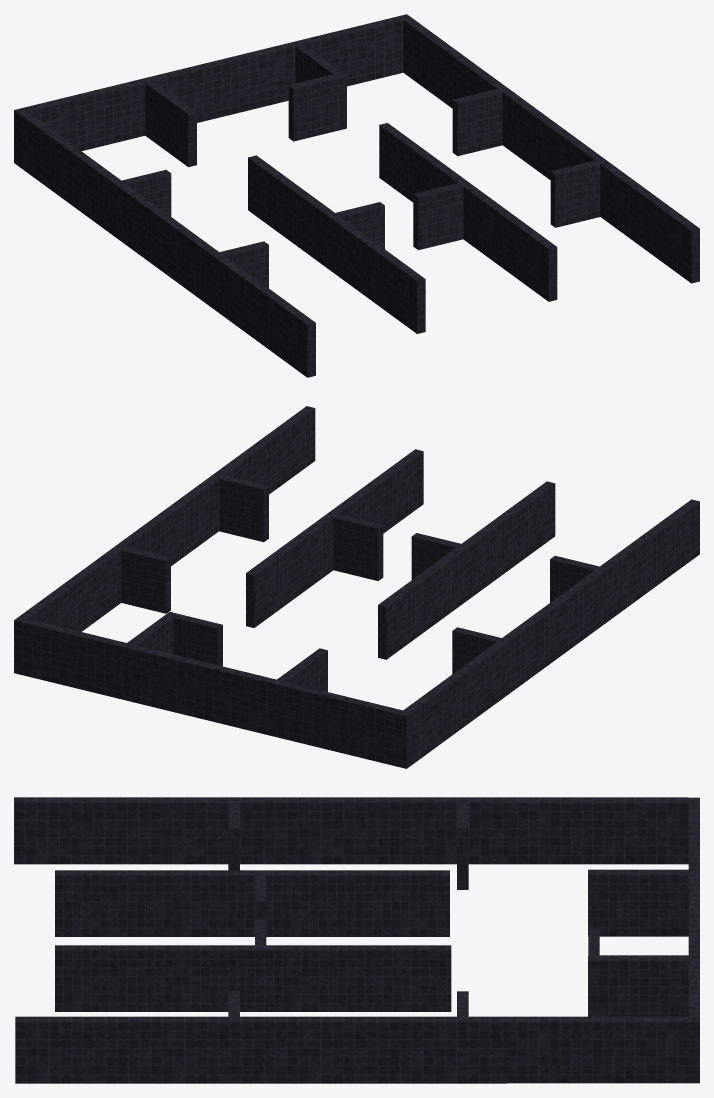
3 renders of one model, top to bottom at view 1: azimuth 30°, elevation 25°; view 2: azimuth 150°, elevation 25°; view 3: azimuth 270°, elevation 25°, orthographic. The views are drawn at different scales.
Parts seen in each view (by area): view 1: polySurface1, polySurface3, polySurface5, pCube26, pCube9, pCube54, pCube57, pCube12, pCube58, pCube53, pCube28, pCube56 (+2 smaller); view 2: polySurface3, polySurface1, polySurface5, pCube26, pCube9, pCube12, pCube58, pCube57, pCube53, pCube54, pCube52, pCube56 (+2 smaller); view 3: polySurface5, polySurface1, pCube9, pCube26, pCube54, pCube28, polySurface3, pCube56, pCube55, pCube52.
Part boxes in pixels (left/top/right/bottom): polySurface1: left=19, top=111, right=315, bottom=377; polySurface3: left=14, top=14, right=411, bottom=166; polySurface5: left=403, top=18, right=699, bottom=283; pCube26: left=248, top=155, right=425, bottom=333; pCube9: left=379, top=123, right=557, bottom=301; pCube54: left=145, top=81, right=196, bottom=167; pCube57: left=550, top=160, right=600, bottom=227; pCube12: left=413, top=183, right=463, bottom=250; pCube58: left=452, top=89, right=502, bottom=156; pCube53: left=288, top=74, right=338, bottom=141; pCube28: left=295, top=44, right=346, bottom=130; pCube56: left=122, top=169, right=171, bottom=216; polySurface3: left=14, top=617, right=411, bottom=768; polySurface1: left=403, top=499, right=699, bottom=764; polySurface5: left=19, top=406, right=315, bottom=631; pCube26: left=378, top=481, right=555, bottom=659; pCube9: left=246, top=449, right=423, bottom=627; pCube12: left=333, top=514, right=383, bottom=580; pCube58: left=121, top=546, right=170, bottom=613; pCube57: left=219, top=475, right=268, bottom=542; pCube53: left=173, top=614, right=222, bottom=666; pCube54: left=277, top=648, right=327, bottom=691; pCube52: left=411, top=533, right=460, bottom=579; pCube56: left=452, top=627, right=501, bottom=673; polySurface5: left=15, top=1016, right=688, bottom=1083; polySurface1: left=14, top=797, right=688, bottom=864; pCube9: left=55, top=945, right=451, bottom=1011; pCube26: left=55, top=870, right=449, bottom=936; pCube54: left=588, top=869, right=688, bottom=936; pCube28: left=588, top=955, right=688, bottom=1016; polySurface3: left=688, top=797, right=699, bottom=1083; pCube56: left=457, top=802, right=468, bottom=889; pCube55: left=228, top=802, right=239, bottom=870; pCube52: left=255, top=875, right=266, bottom=919.
Bounding box in the file's own units: 114 × 14.74 × 148.
1 material, 1 textured.
